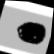correct: (11, 16, 50, 48)
